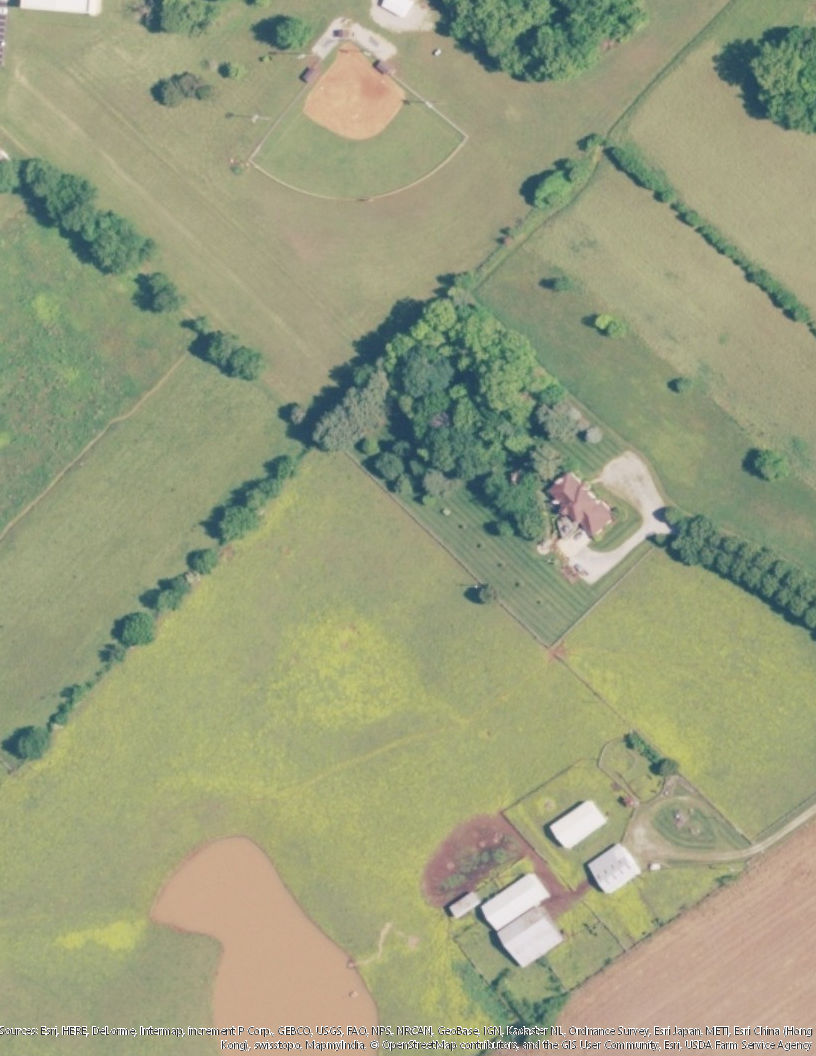cafo: (478, 872, 563, 971), (549, 796, 608, 851)
